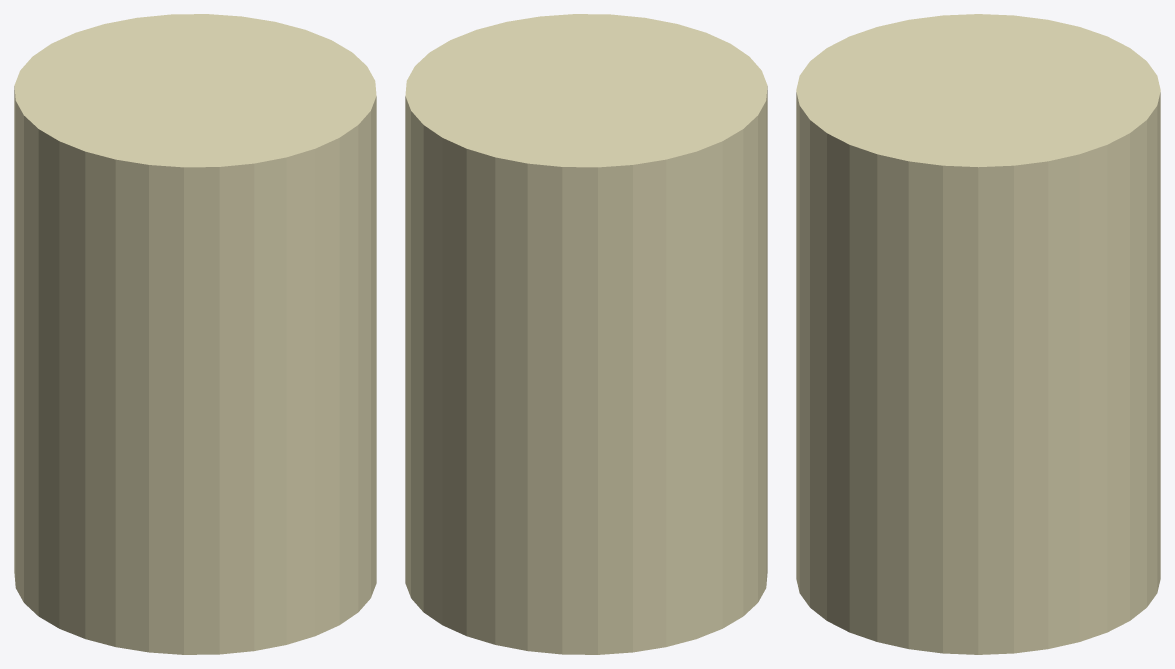
File: lefkos pirgos.gltf
3 views of the same model, side by side, from view 1: azimuth 30°, elevation 25°; view 2: azimuth 150°, elevation 25°; view 3: azimuth 270°, elevation 25° (orthographic).
Visible parts, largest first — view 1: Cylinder; view 2: Cylinder; view 3: Cylinder.
Part boxes in pixels (box(x1,y1,x2,y2)): Cylinder: box(14, 14, 376, 654); Cylinder: box(405, 14, 767, 654); Cylinder: box(796, 14, 1160, 654).
Bounding box in the file's own units: 6.64 × 9.86 × 6.68.
